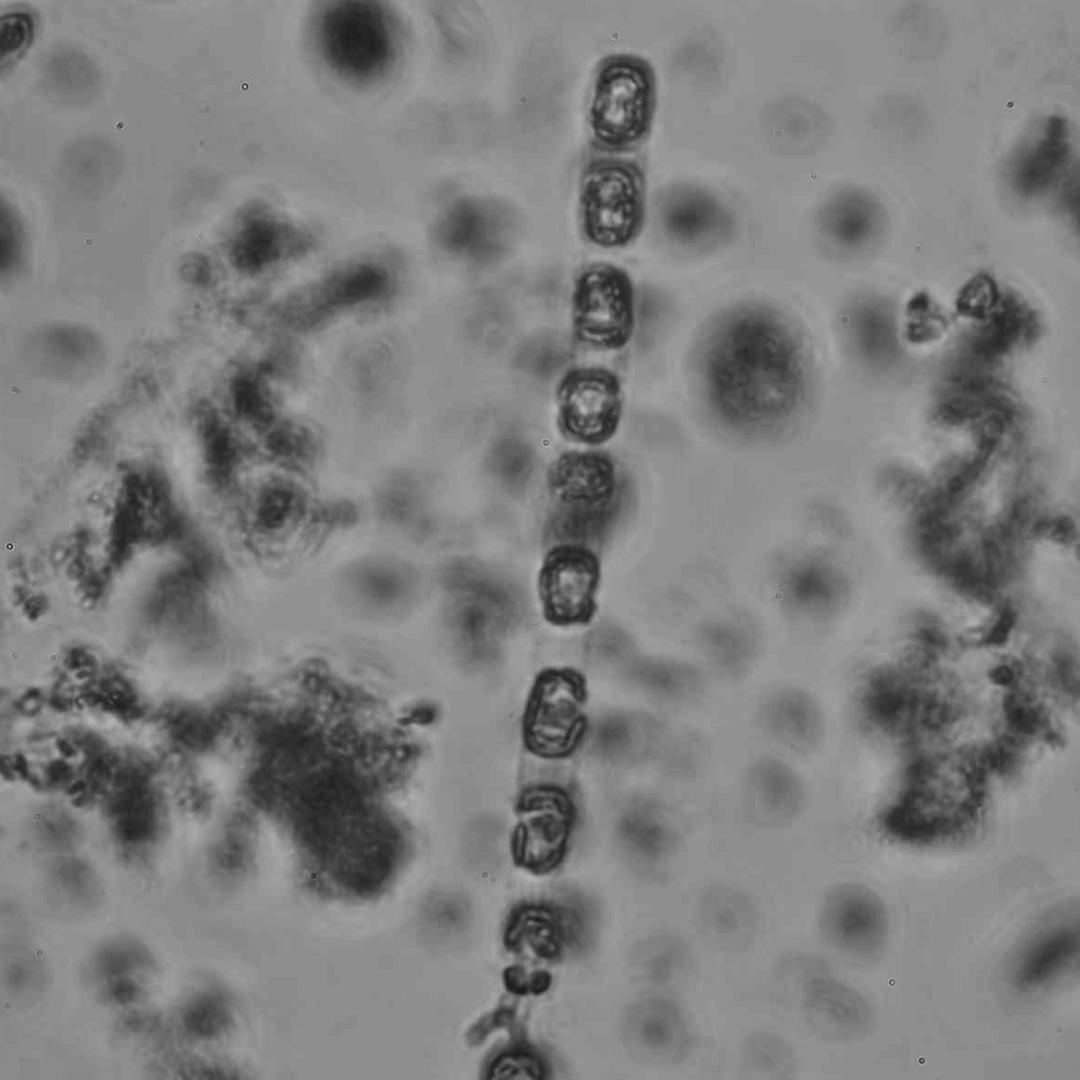skeletonema_costatum: (471, 64, 650, 1054)
